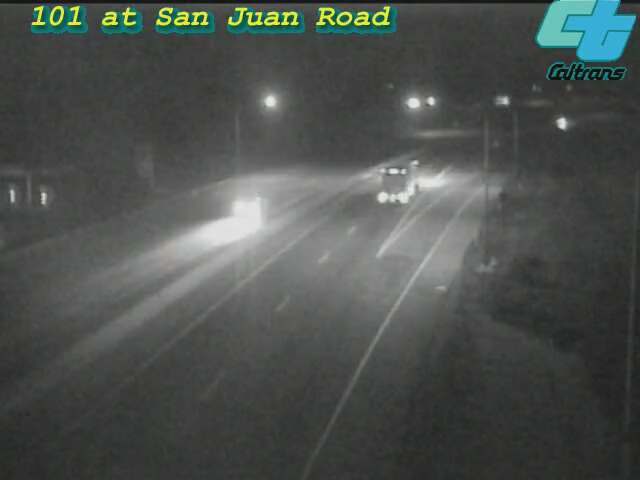vehicle: (200, 173, 280, 253), (365, 141, 445, 221), (543, 97, 593, 147)
